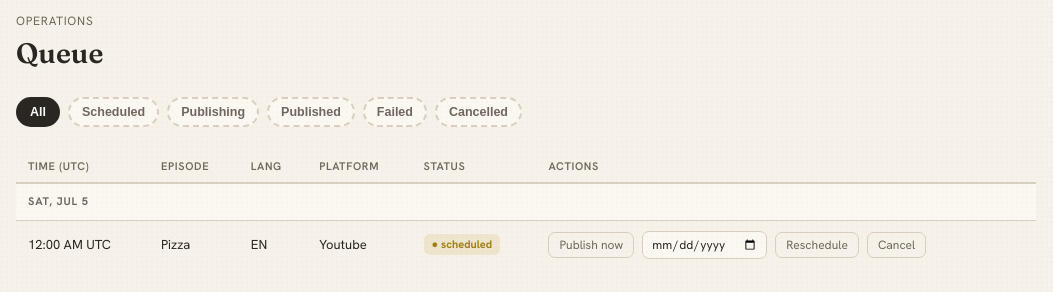
Scenario: Queue › shows error when cancel fails
Click the button "Cancel". click: (897, 245)
box: top-left (867, 232), bottom-right (926, 258)
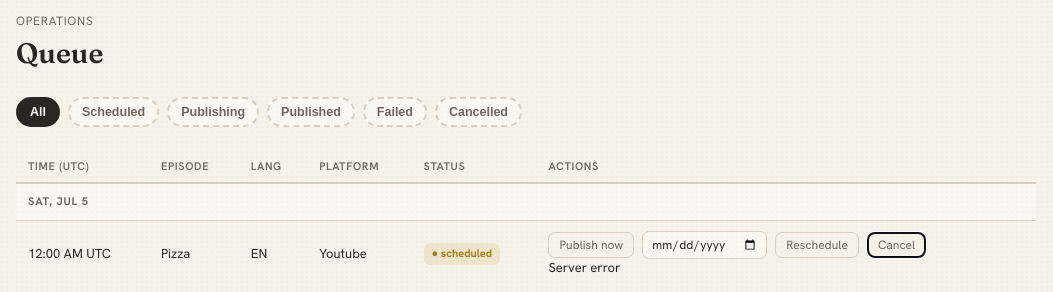
Expected: the text "Server error" is shown, top-left (548, 259), bottom-right (620, 276)
